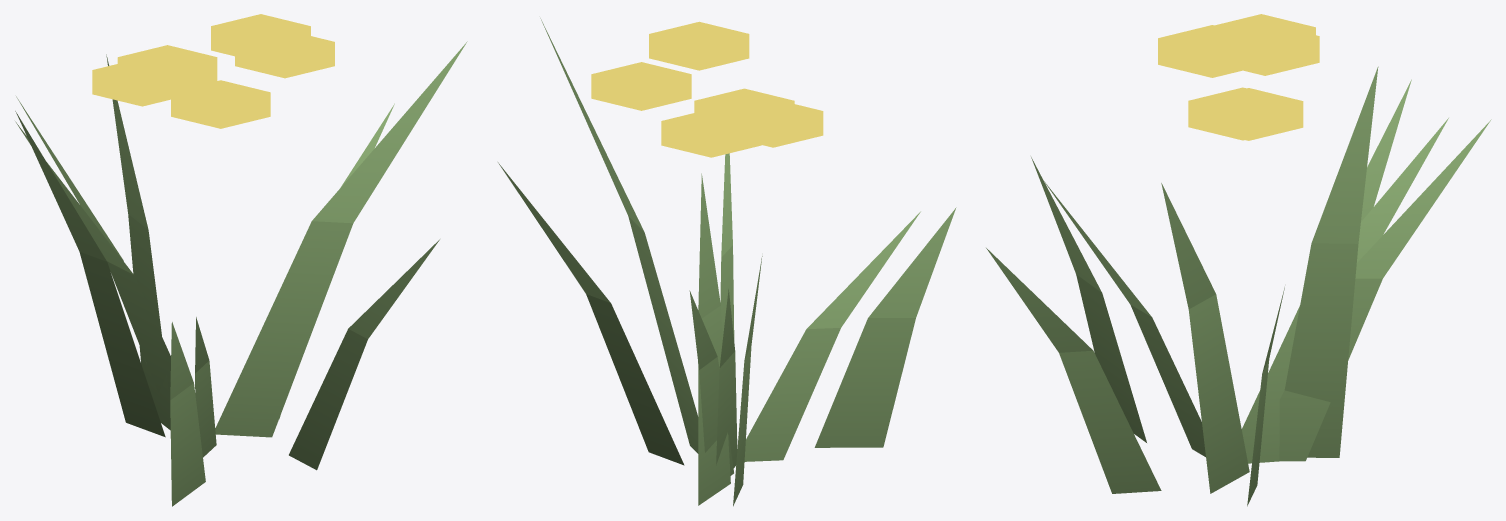
The model's file is flower_yellow.glb.
3 renders of one model, left to right at view 1: azimuth 30°, elevation 25°; view 2: azimuth 150°, elevation 25°; view 3: azimuth 270°, elevation 25°, orthographic. The views are drawn at different scales.
Visible parts, largest first — view 1: flower_yellow; view 2: flower_yellow; view 3: flower_yellow.
Boxes of the visible parts, x1,y1,x2,y2 form: flower_yellow: (15, 14, 467, 506); flower_yellow: (498, 18, 956, 506); flower_yellow: (986, 14, 1491, 506).
Bounding box in the file's own units: 0.3566 × 0.3837 × 0.403.
